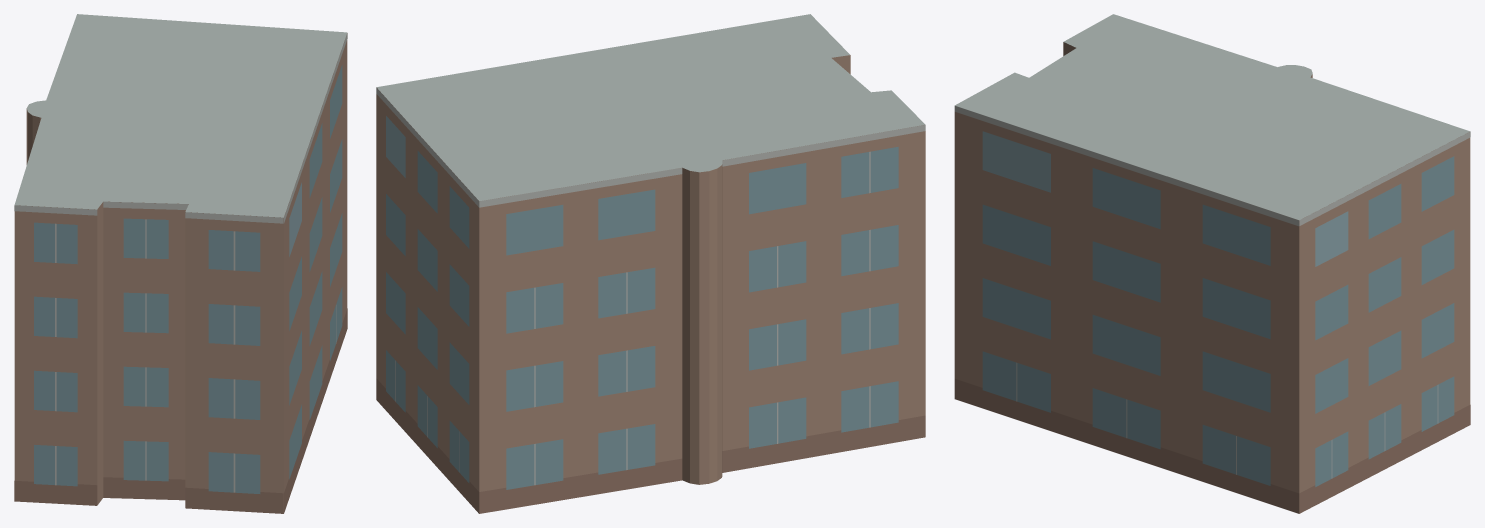
Rendered from survey-upis-32817582.glb.
The picture shows the model from 3 angles, left to right: view 1: azimuth 30°, elevation 25°; view 2: azimuth 150°, elevation 25°; view 3: azimuth 270°, elevation 25°; orthographic projection. The views are drawn at different scales.
Parts seen in each view (by area): view 1: survey-upis-32817582.tmp; view 2: survey-upis-32817582.tmp; view 3: survey-upis-32817582.tmp.
Part boxes in pixels (box(x1,y1,x2,y2)): survey-upis-32817582.tmp: box(14, 14, 347, 513); survey-upis-32817582.tmp: box(376, 14, 925, 513); survey-upis-32817582.tmp: box(954, 14, 1470, 513).
Bounding box in the file's own units: 17.95 × 11.9 × 18.96.
